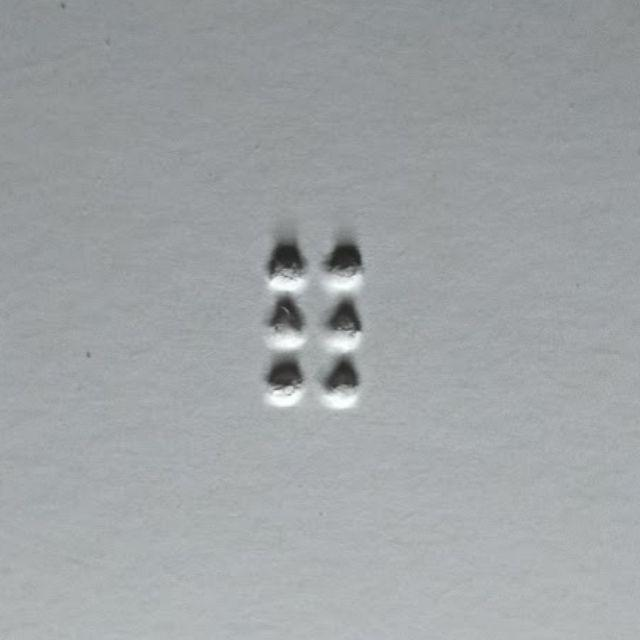mahal: (266, 240, 361, 412)
